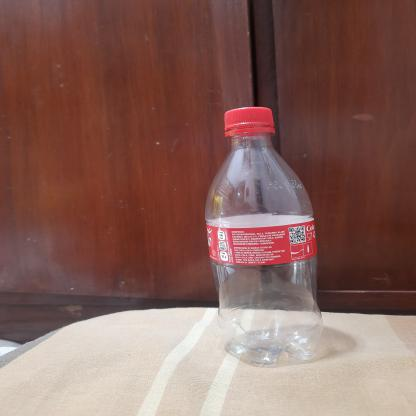bottle: (200, 101, 336, 368)
